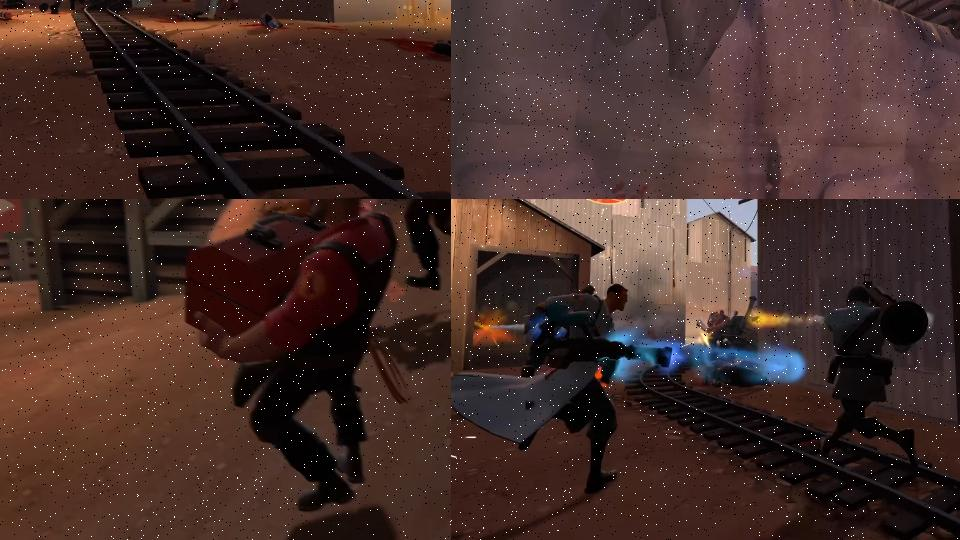Enemy: (181, 199, 410, 512), (451, 278, 680, 495), (815, 268, 932, 461), (362, 199, 451, 294), (190, 0, 257, 21), (706, 310, 731, 349), (47, 0, 92, 14)
